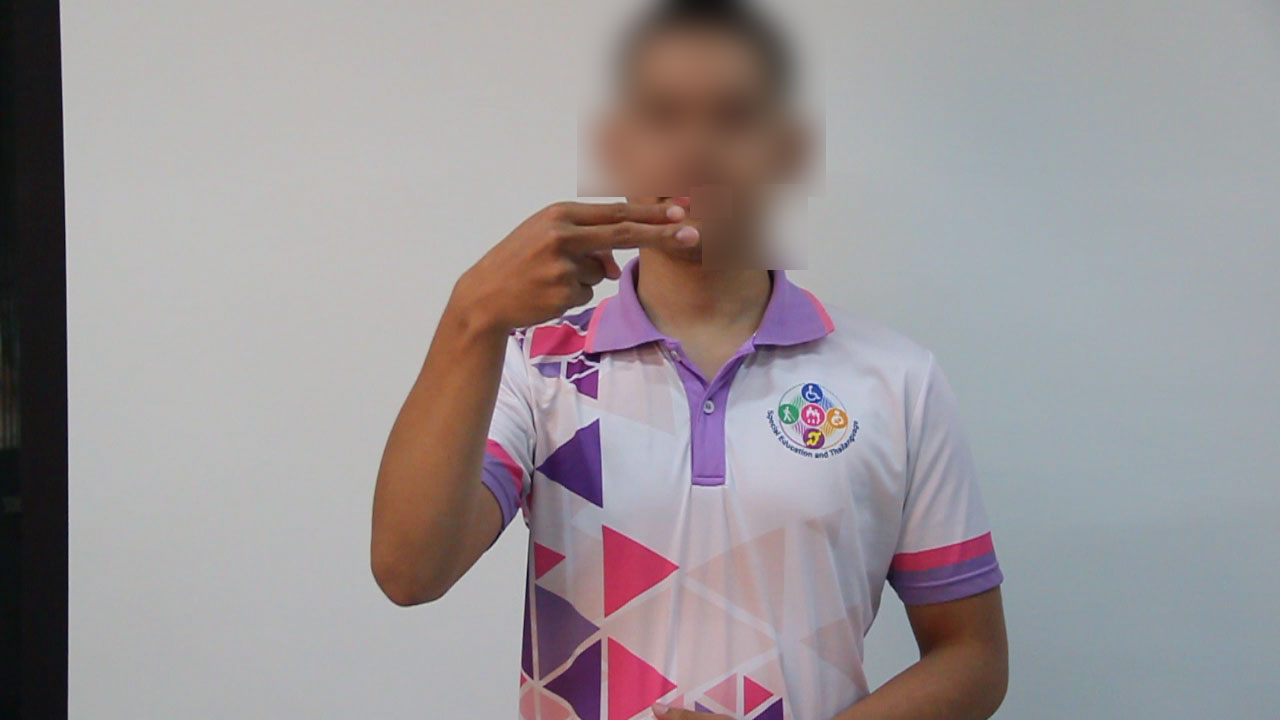hor: (444, 189, 715, 342)
